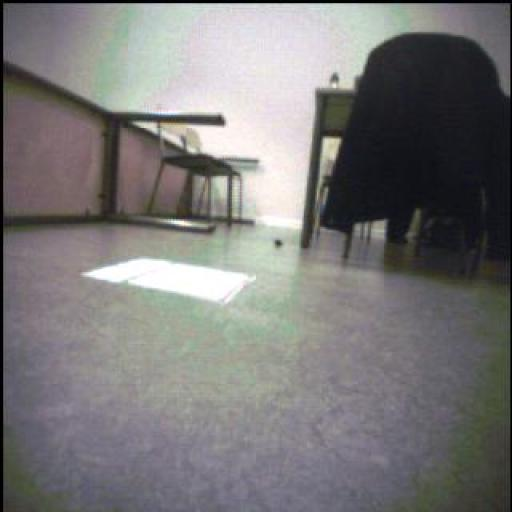Pad: (84, 259, 257, 305)
